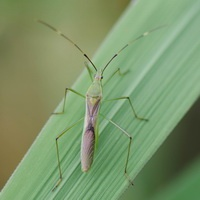insect: (38, 19, 148, 184)
